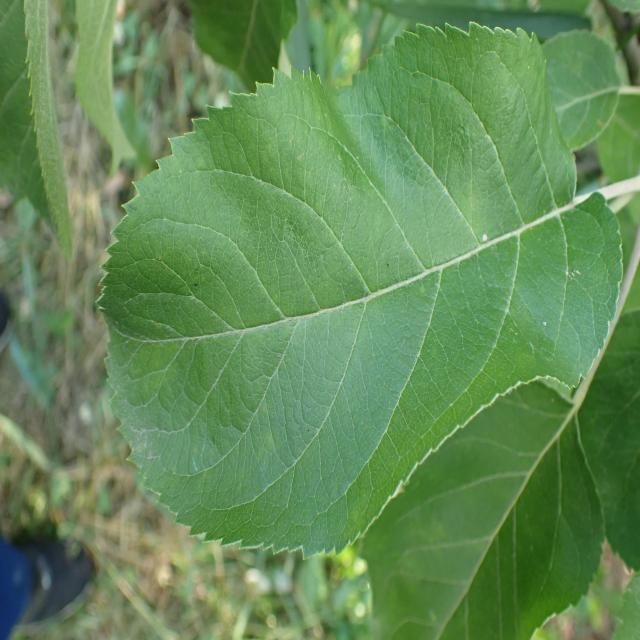healthy: (94, 22, 623, 560), (361, 377, 605, 640), (0, 0, 73, 261), (573, 304, 640, 573), (540, 28, 623, 152), (187, 0, 298, 91)
